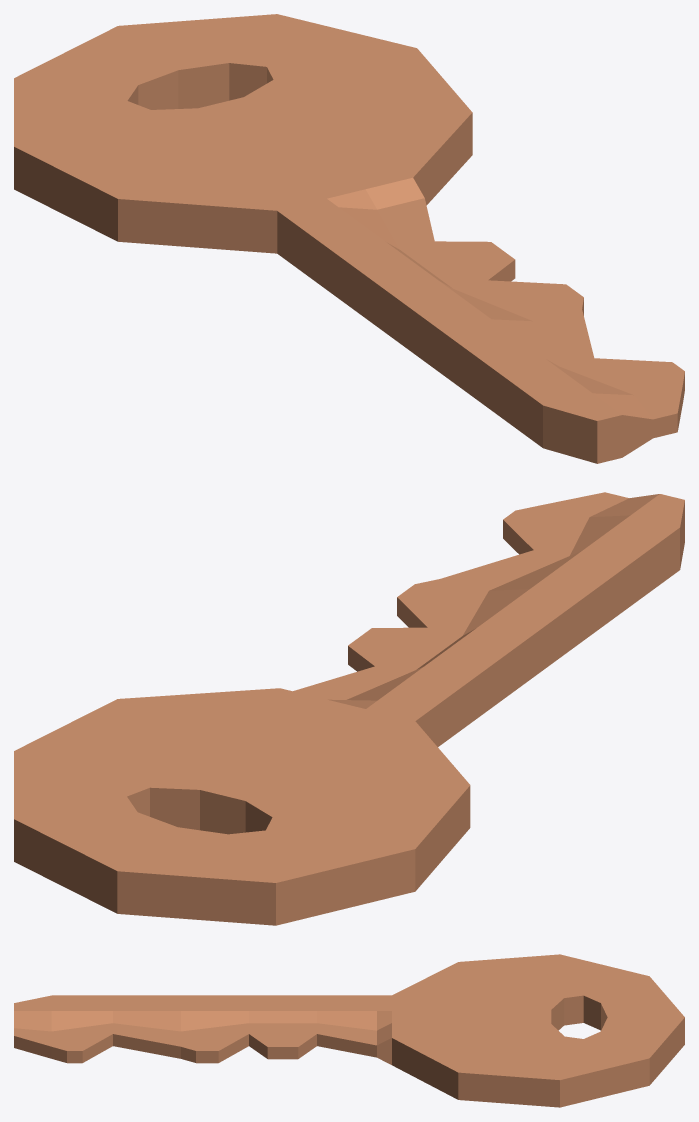
Rendered from 007. Prop Key.fbx.
3 renders of one model, top to bottom at view 1: azimuth 30°, elevation 25°; view 2: azimuth 150°, elevation 25°; view 3: azimuth 270°, elevation 25°, orthographic. The views are drawn at different scales.
Parts seen in each view (by area): view 1: Cylinder; view 2: Cylinder; view 3: Cylinder.
Boxes of the visible parts, box(x1,y1,x2,y2) form: Cylinder: box(14, 14, 684, 463); Cylinder: box(14, 492, 684, 925); Cylinder: box(14, 954, 684, 1107).
Size of the model in its own units: 26.39 by 2.68 by 59.49.
